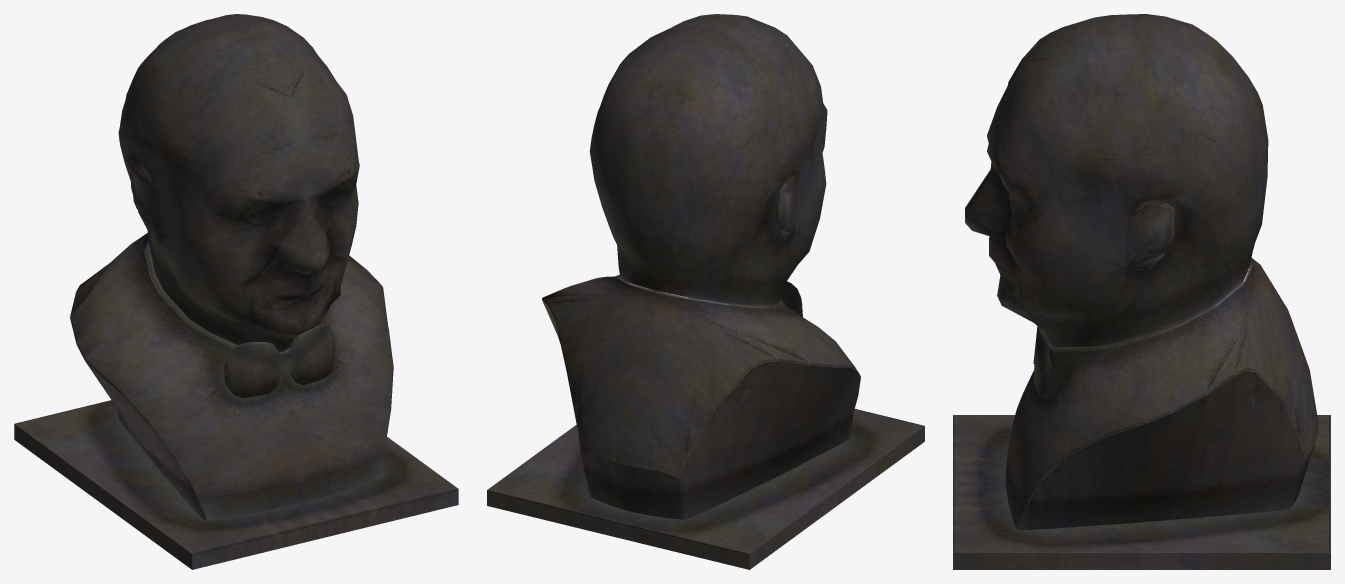
The model's file is Statue06.FBX.
3 views of the same model, side by side, from view 1: azimuth 30°, elevation 25°; view 2: azimuth 150°, elevation 25°; view 3: azimuth 270°, elevation 25° (orthographic). The views are drawn at different scales.
Parts seen in each view (by area): view 1: Statue06; view 2: Statue06; view 3: Statue06.
Boxes of the visible parts, <box> form: Statue06: <box>14,14,458,569</box>; Statue06: <box>487,14,924,569</box>; Statue06: <box>953,14,1330,569</box>.
Bounding box in the file's own units: 0.2832 × 0.4065 × 0.2928.
